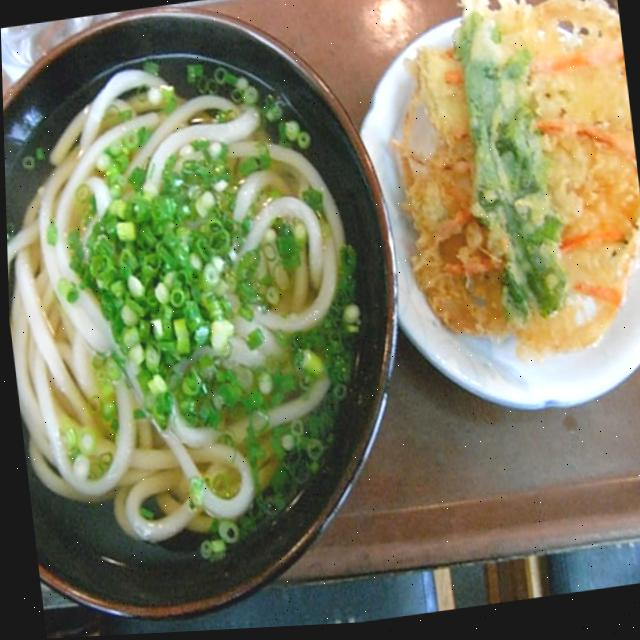面条主食: (0, 0, 406, 628)
